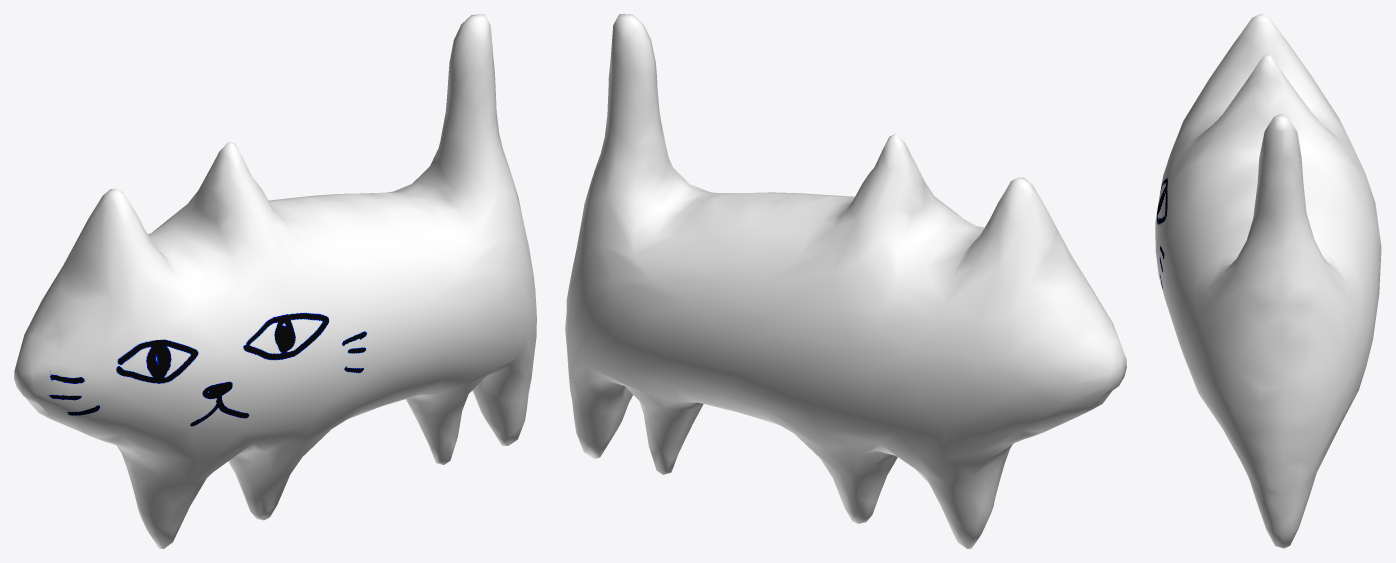
File: neco.glb
3 renders of one model, left to right at view 1: azimuth 30°, elevation 25°; view 2: azimuth 150°, elevation 25°; view 3: azimuth 270°, elevation 25°, orthographic. The views are drawn at different scales.
Parts seen in each view (by area): view 1: mm_frame; view 2: mm_frame; view 3: mm_frame.
Boxes of the visible parts, box(x1,y1,x2,y2) form: mm_frame: box(14, 14, 536, 548); mm_frame: box(565, 14, 1126, 548); mm_frame: box(1155, 14, 1381, 548).
Bounding box in the file's own units: 0.4682 × 0.3837 × 0.1843.
1 material, 1 textured.
